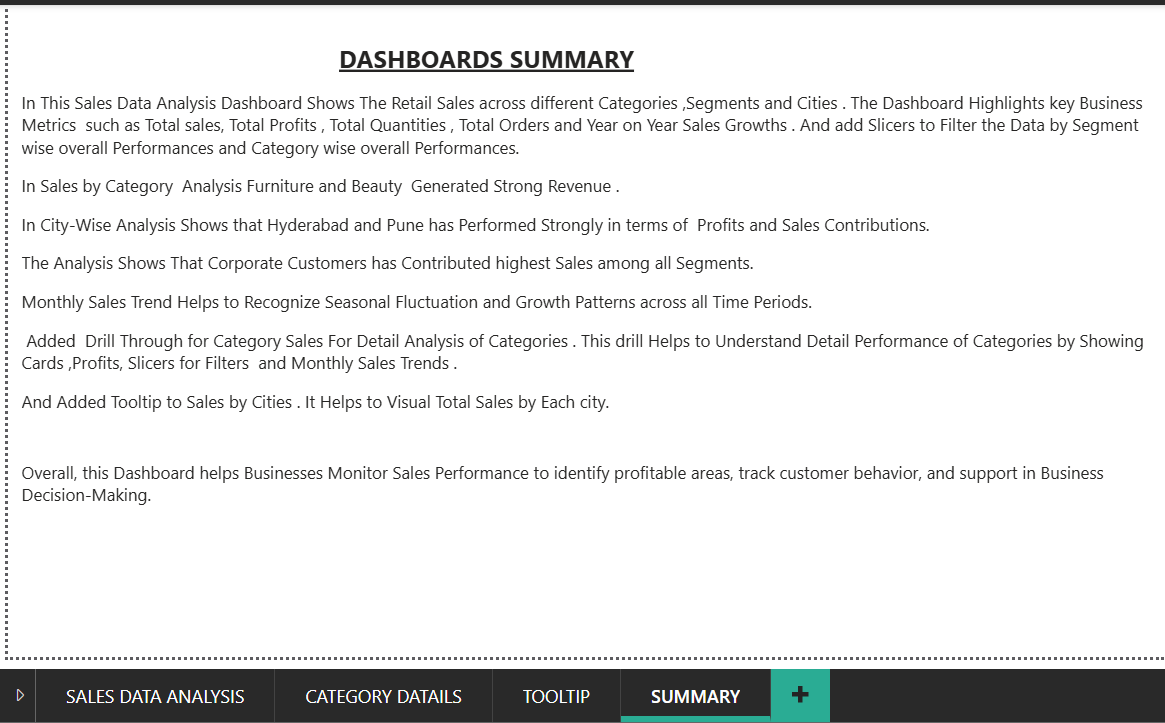

This screenshot's page, from the dashboard's own definition file:
{"tool":"powerbi","page":{"name":"SUMMARY","canvas":[1280,720],"ordinal":3},"visuals":[{"type":"textbox","box":[9.9,0,1270.5,626.1],"z":0}]}

Visuals, with their boxes on the page's 1280x720 design canvas (x1, y1, x2, y2). These are canvas units, not pixel positions in the 1165x723 screenshot, which may show the page scaled, cropped or inside an application window:
textbox: (left=10, top=0, right=1280, bottom=626)
